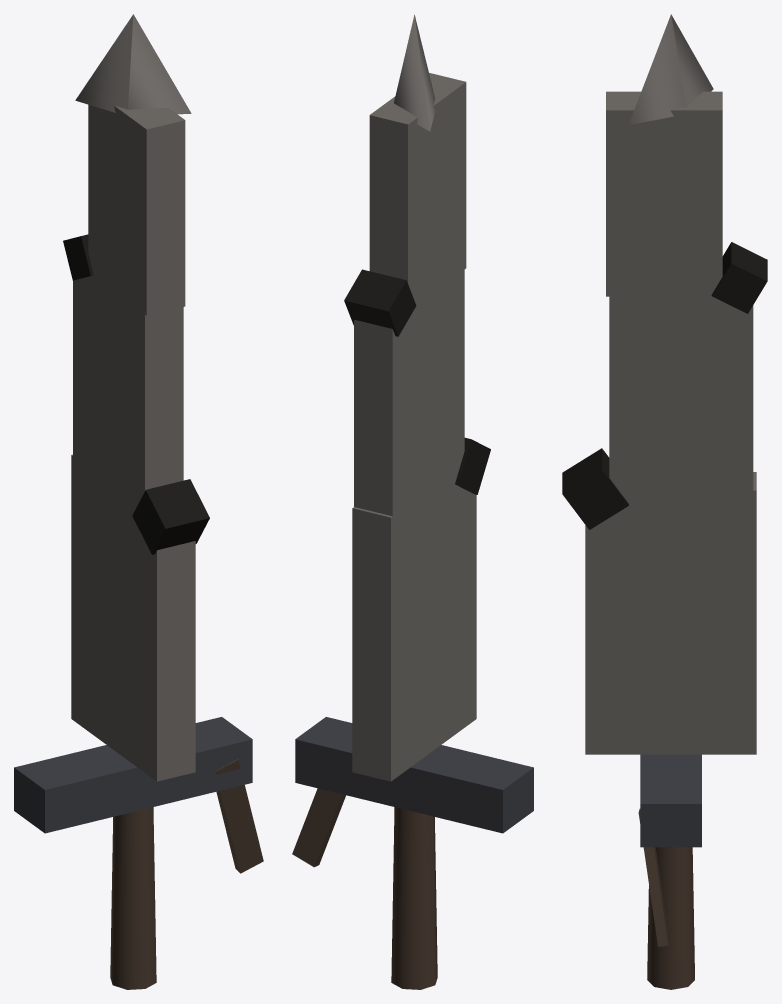
The model's file is chosen.glb.
The picture shows the model from 3 angles, left to right: view 1: azimuth 30°, elevation 25°; view 2: azimuth 150°, elevation 25°; view 3: azimuth 270°, elevation 25°; orthographic projection.
Size of the model in its own units: 0.7673 by 3.11 by 0.5987.
